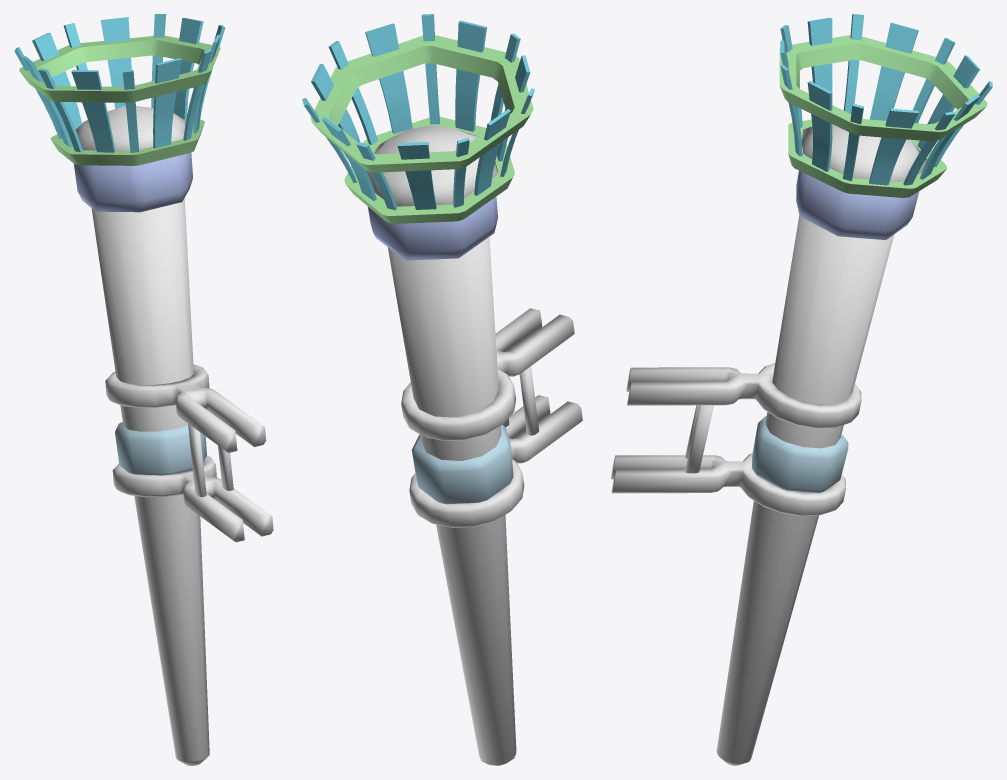
Rendered from torch.fbx.
The picture shows the model from 3 angles, left to right: view 1: azimuth 30°, elevation 25°; view 2: azimuth 150°, elevation 25°; view 3: azimuth 270°, elevation 25°; orthographic projection. The views are drawn at different scales.
Parts seen in each view (by area): view 1: Cylinder, Cylinder.006, Cylinder.007, Cylinder.002, Cylinder.005, Cylinder.008, Cylinder.001, Cylinder.003, Cylinder.009, Cube; view 2: Cylinder, Cylinder.006, Cylinder.007, Cylinder.002, Cylinder.008, Cylinder.001, Cylinder.005, Cylinder.009, Cylinder.003, Cube; view 3: Cylinder, Cylinder.006, Cylinder.007, Cylinder.002, Cylinder.008, Cylinder.005, Cylinder.001, Cylinder.003, Cylinder.009, Cube.
Boxes of the visible parts, x1,y1,x2,y2 form: Cylinder: (91,198,209,765); Cylinder.006: (14,14,225,152); Cylinder.007: (19,35,220,102); Cylinder.002: (105,364,266,452); Cylinder.005: (74,153,192,212); Cylinder.008: (112,455,273,542); Cylinder.001: (115,422,206,475); Cylinder.003: (50,119,204,165); Cylinder.009: (69,105,185,150); Cube: (188,423,233,497); Cylinder: (388,237,516,765); Cylinder.006: (302,14,534,210); Cylinder.007: (310,35,533,172); Cylinder.002: (401,308,574,440); Cylinder.008: (409,395,582,527); Cylinder.001: (411,424,513,504); Cylinder.005: (367,197,497,260); Cylinder.009: (366,125,497,206); Cylinder.003: (344,116,514,223); Cube: (503,366,539,435); Cylinder: (716,215,894,765); Cylinder.006: (780,14,992,185); Cylinder.007: (779,35,987,141); Cylinder.002: (626,363,861,428); Cylinder.008: (611,453,846,516); Cylinder.005: (796,170,919,240); Cylinder.001: (752,416,848,492); Cylinder.003: (788,119,946,197); Cylinder.009: (801,124,926,181); Cube: (685,405,713,473).
Size of the model in its own units: 44.12 by 157 by 75.83.
